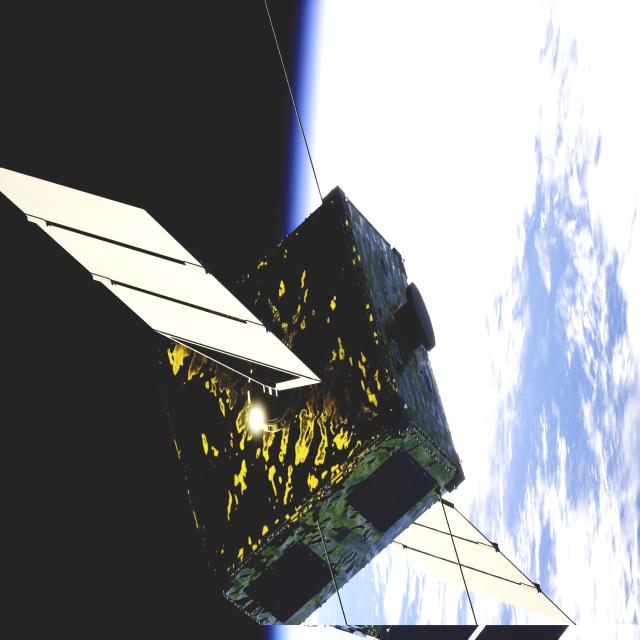medium_debris: (0, 170, 572, 629)
